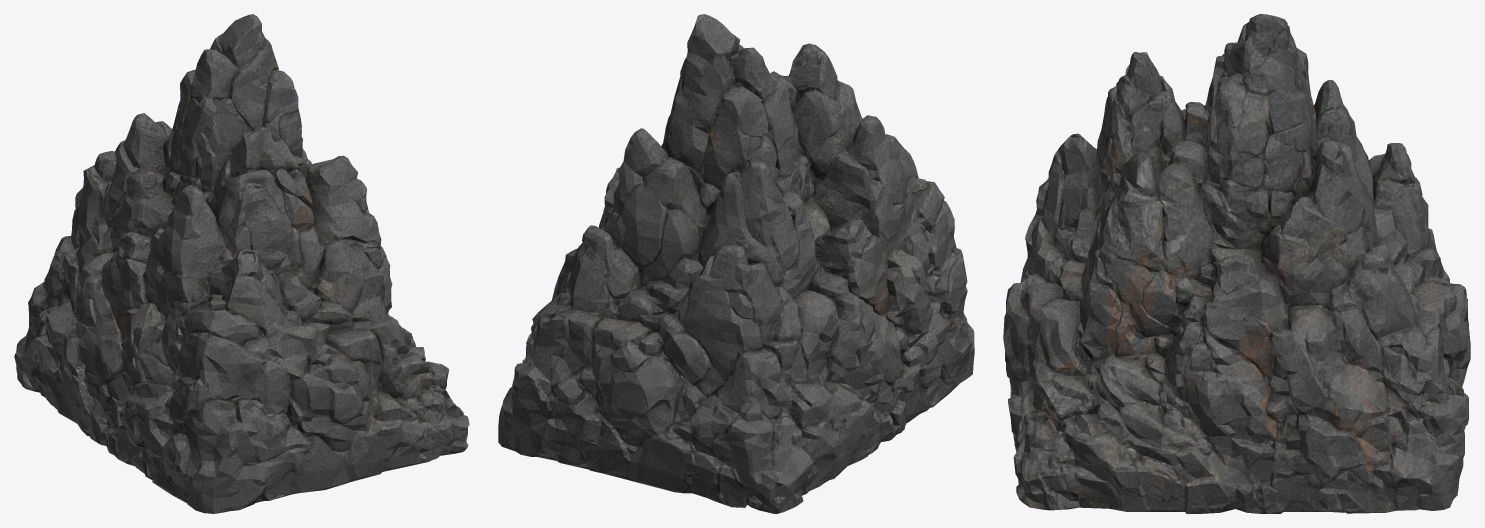
File: iron_resource.glb
3 renders of one model, left to right at view 1: azimuth 30°, elevation 25°; view 2: azimuth 150°, elevation 25°; view 3: azimuth 270°, elevation 25°, orthographic. The views are drawn at different scales.
Parts seen in each view (by area): view 1: tripo_node_bce90694-e6ee-436a-a693-2bec834bacfc; view 2: tripo_node_bce90694-e6ee-436a-a693-2bec834bacfc; view 3: tripo_node_bce90694-e6ee-436a-a693-2bec834bacfc.
Part boxes in pixels (x1,y1,x2,y2): tripo_node_bce90694-e6ee-436a-a693-2bec834bacfc: [14, 14, 469, 513]; tripo_node_bce90694-e6ee-436a-a693-2bec834bacfc: [498, 14, 974, 513]; tripo_node_bce90694-e6ee-436a-a693-2bec834bacfc: [1003, 14, 1470, 513].
Bounding box in the file's own units: 0.8278 × 0.9961 × 0.9687.
1 material, 1 textured.
